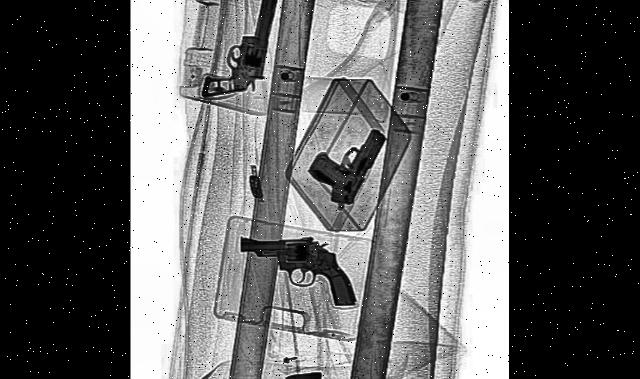Gun: (308, 81, 388, 224), (203, 0, 286, 128), (240, 234, 359, 306)
